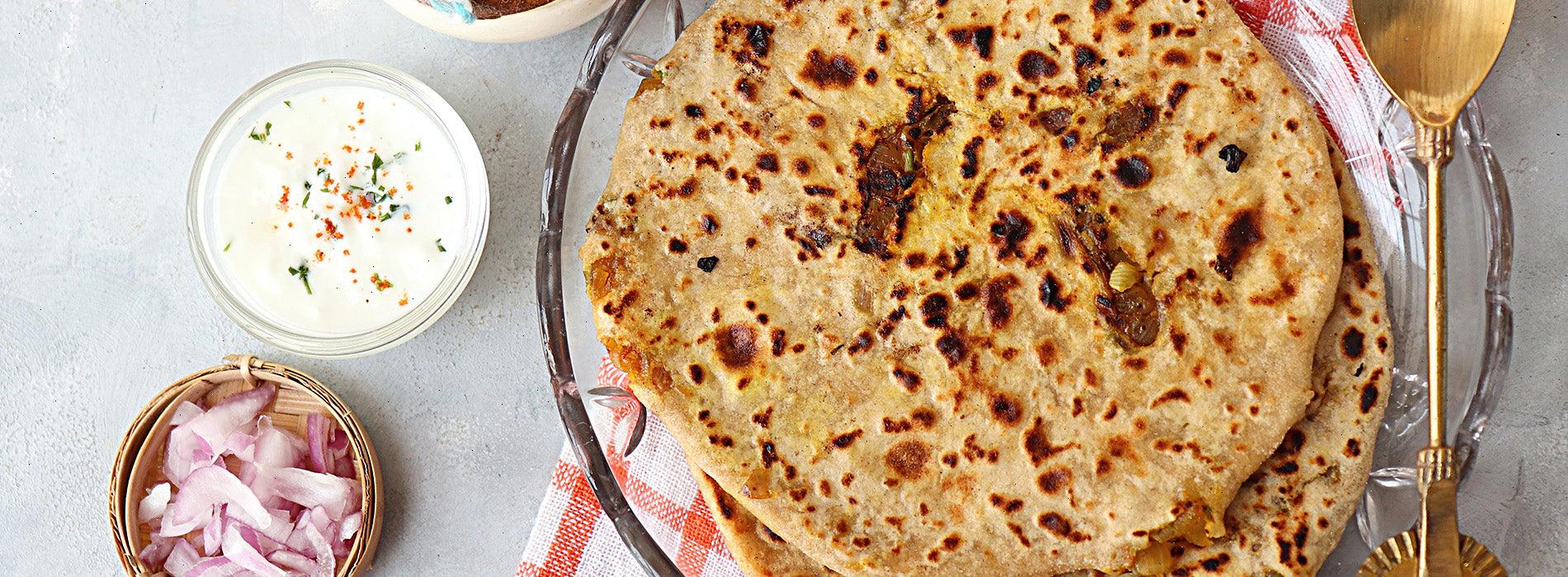paratha: (586, 0, 1399, 577)
yogurt: (193, 63, 483, 344)
